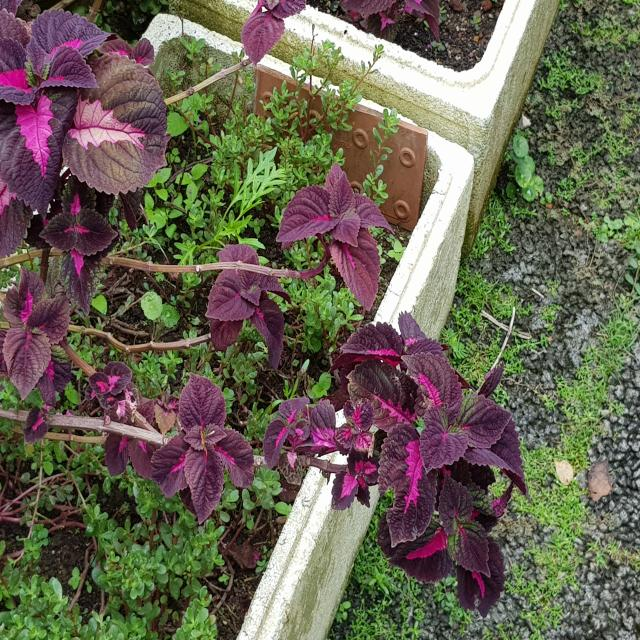Coleus: (255, 287, 550, 630), (0, 2, 166, 291), (171, 156, 397, 357), (90, 342, 256, 508), (1, 266, 67, 400)
